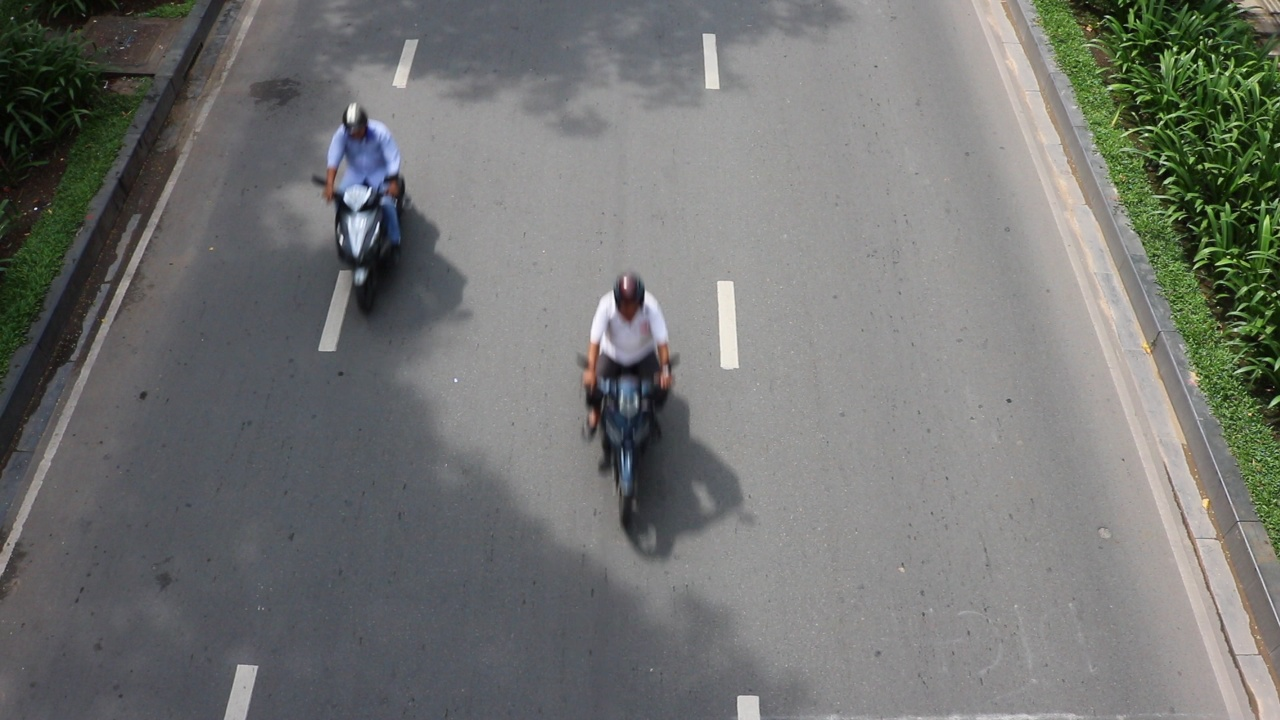motorcycle: (578, 365, 670, 528), (329, 177, 402, 315)
